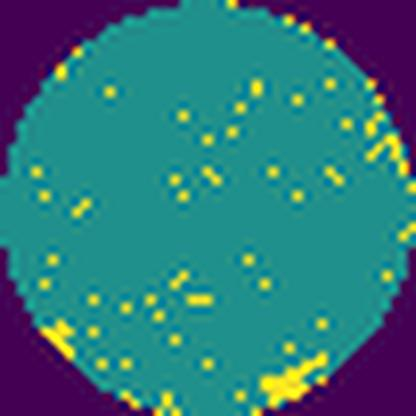Edge-Loc: (260, 350, 338, 409)
